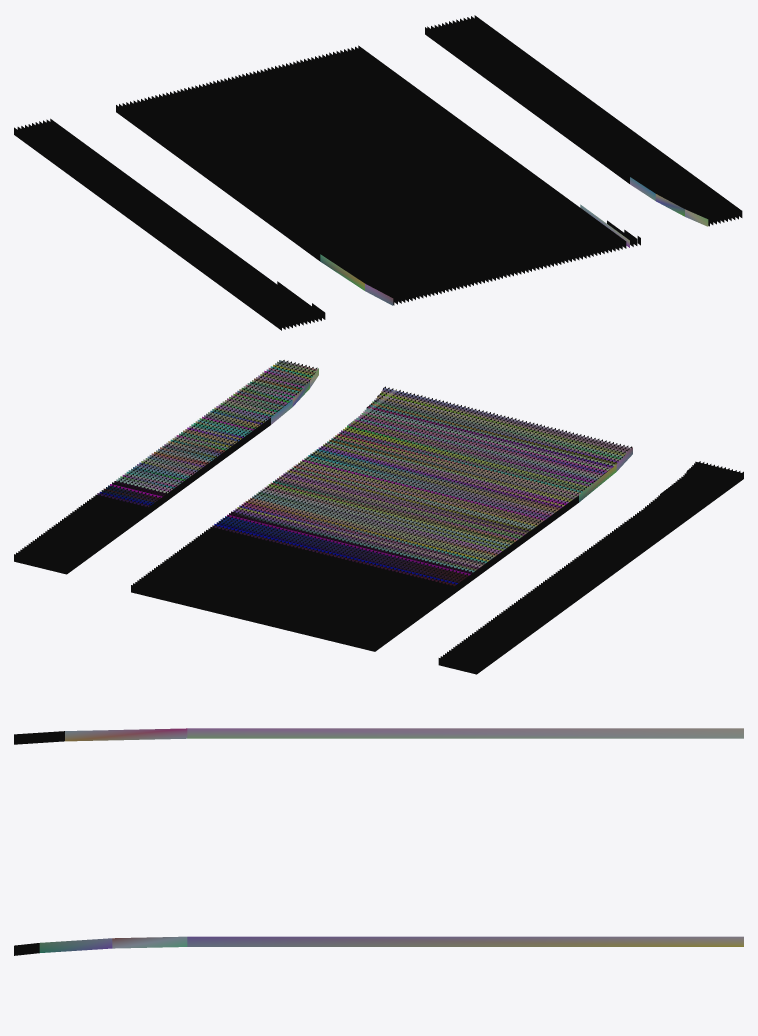
File: Grass_19.gltf
3 renders of one model, top to bottom at view 1: azimuth 30°, elevation 25°; view 2: azimuth 150°, elevation 25°; view 3: azimuth 270°, elevation 25°, orthographic. The views are drawn at different scales.
Parts seen in each view (by area): view 1: Grass_19; view 2: Grass_19; view 3: Grass_19.
Boxes of the visible parts, x1,y1,x2,y2 form: Grass_19: [14, 15, 742, 330]; Grass_19: [14, 360, 743, 674]; Grass_19: [14, 728, 743, 955].
Bounding box in the file's own units: 5.12 × 0.1031 × 5.12.
